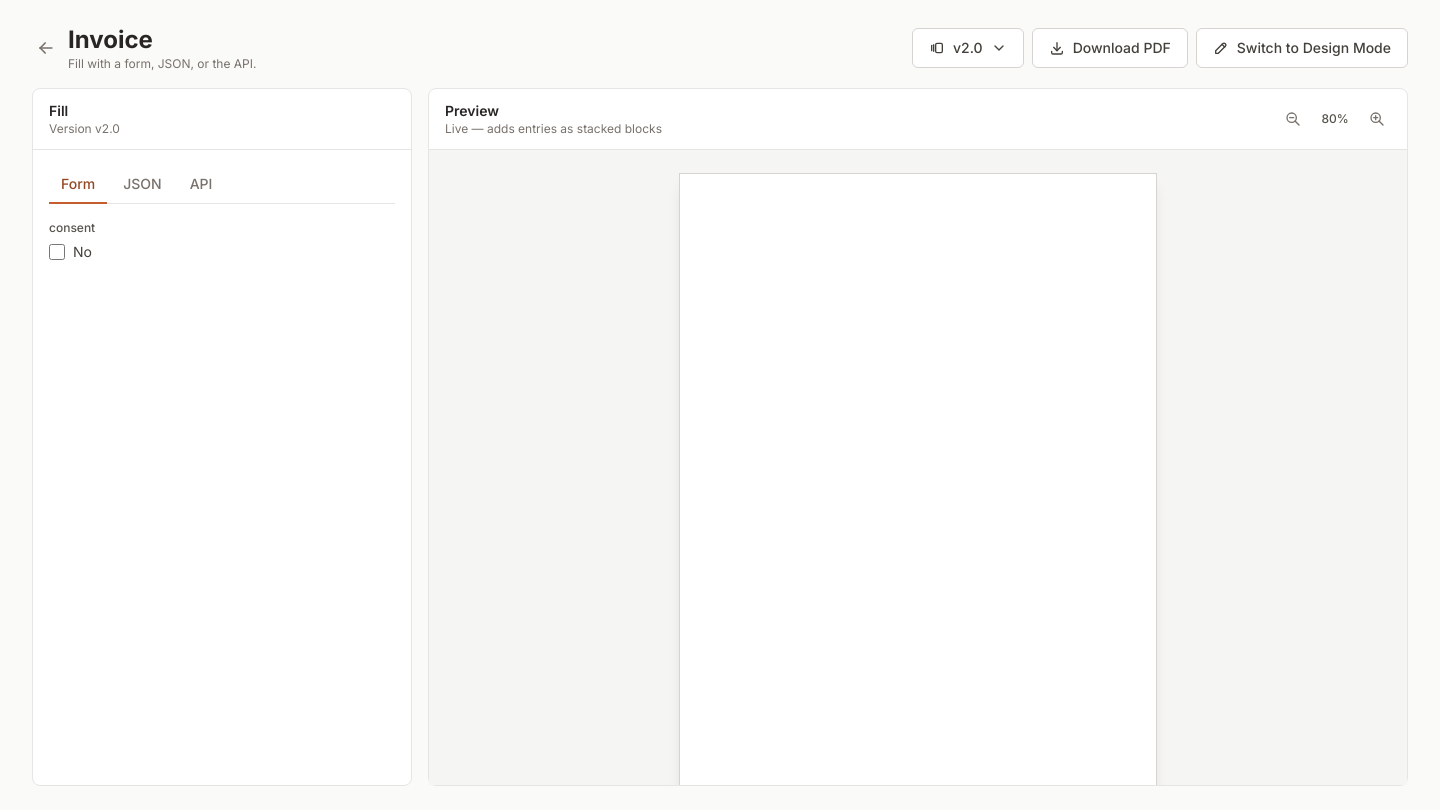
Test: fixed template fill modes › renders checked inputs as X marks and leaves unchecked boxes empty
Click the checkbox named "consent": [57, 252] box [49,244,65,260]
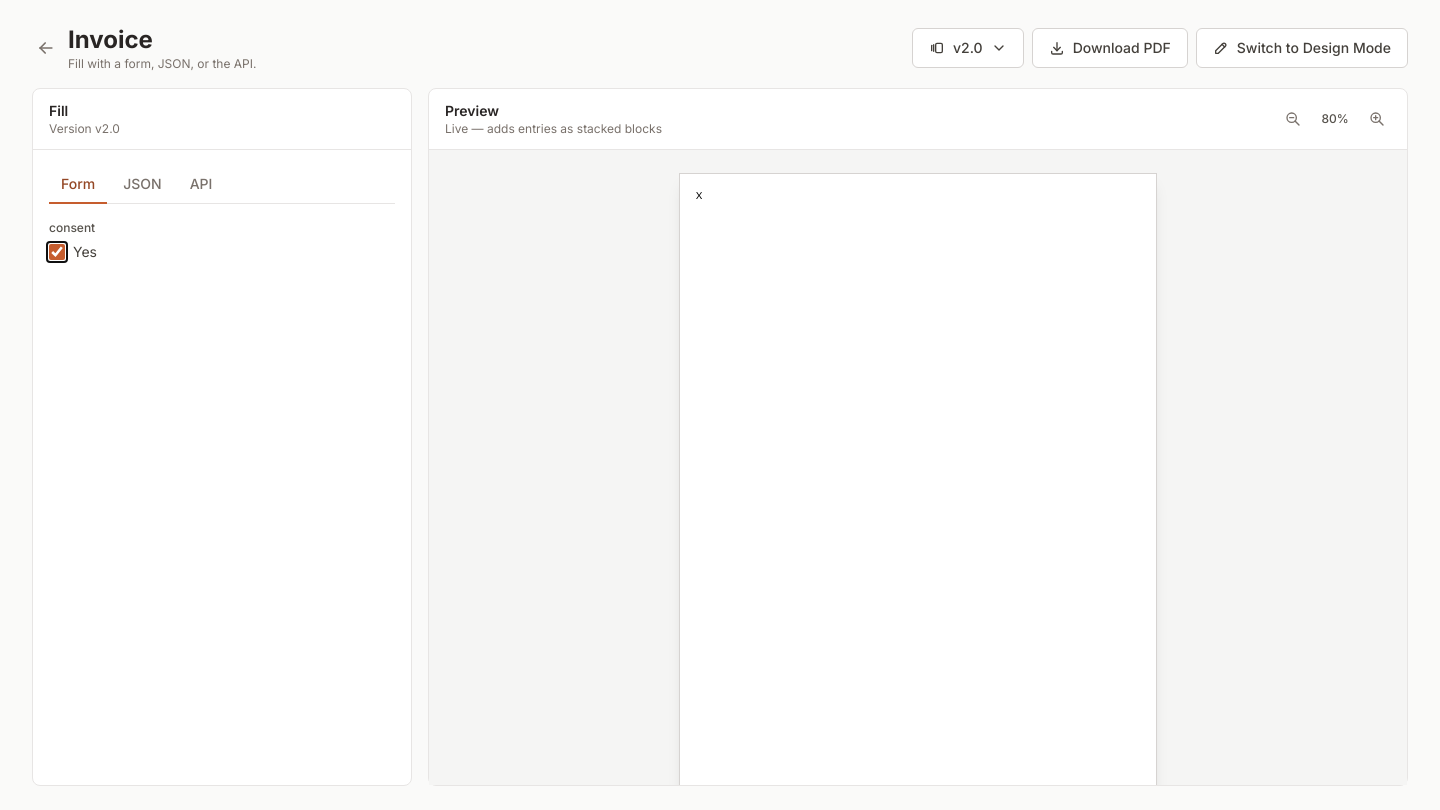
Now the text "X" is shown, box [696,190,702,201]
Click the checkbox named "consent": [57, 252] box [49,244,65,260]
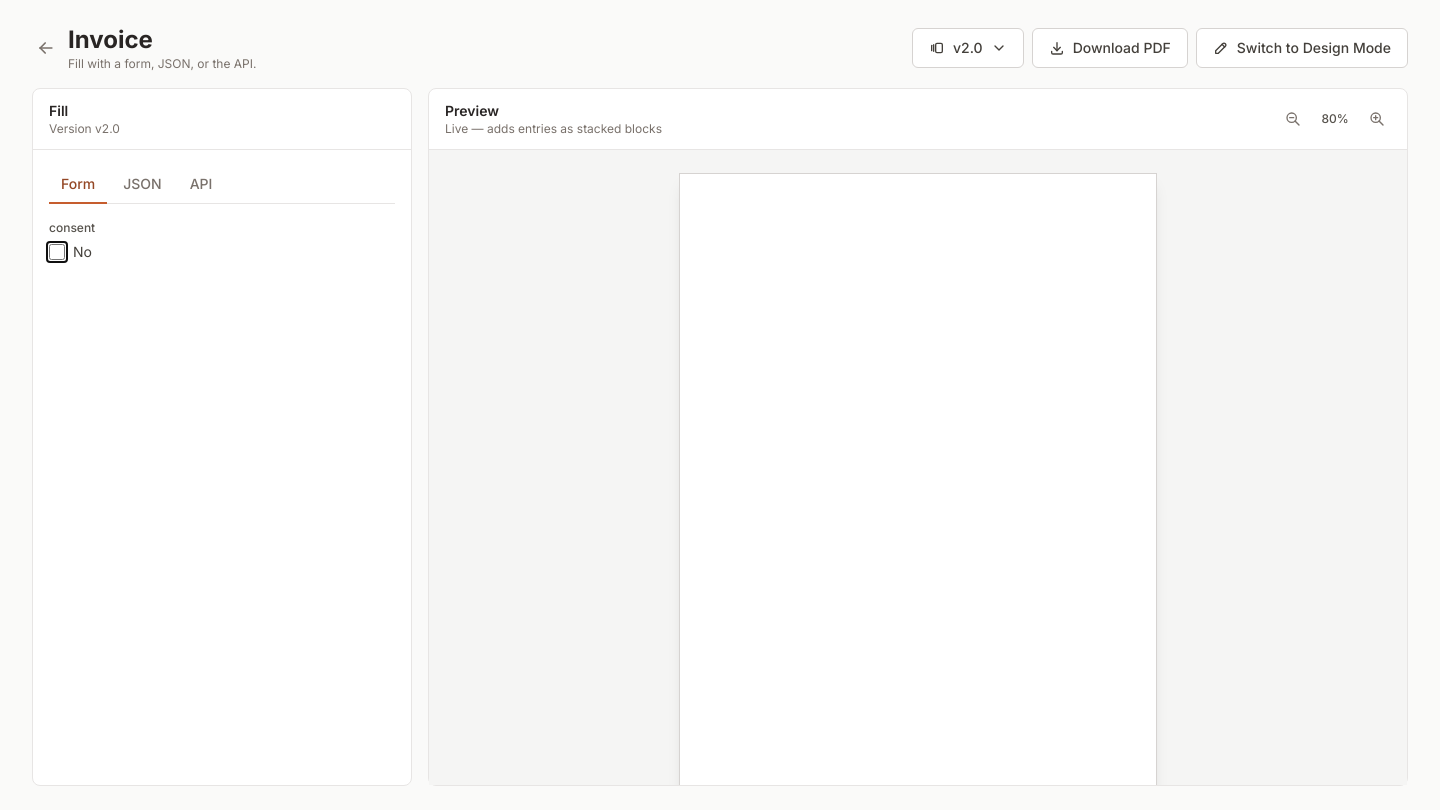
Now the text "X" is gone
